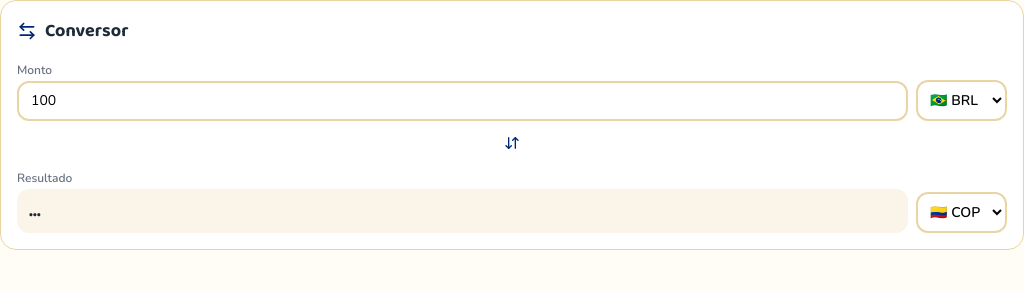
Test: ConversorCard › input descarta caracteres no numéricos
Replace the text in the field labelled "Monto" with "12a3" at (462, 101), box left=17, top=81, right=908, bottom=121
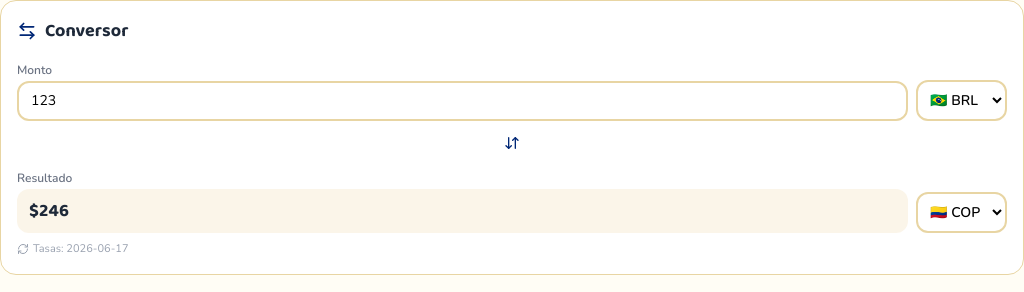
Check: the field labelled "Monto" holds "123", box left=17, top=81, right=908, bottom=121
